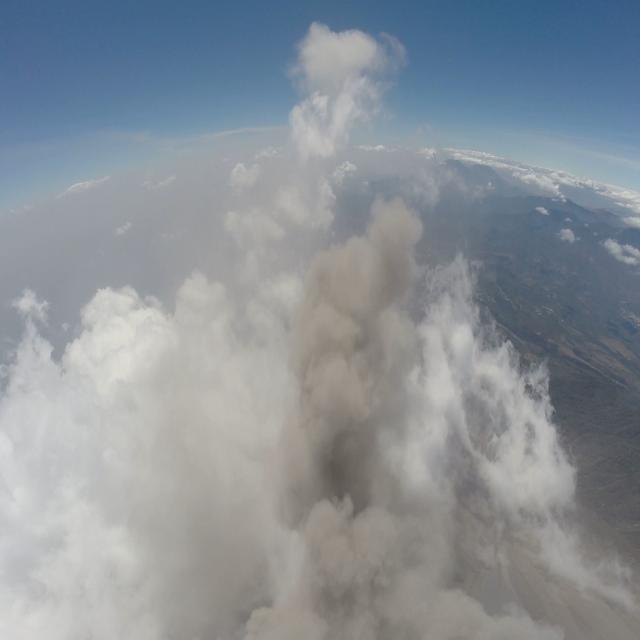Plume: (256, 188, 498, 640)
